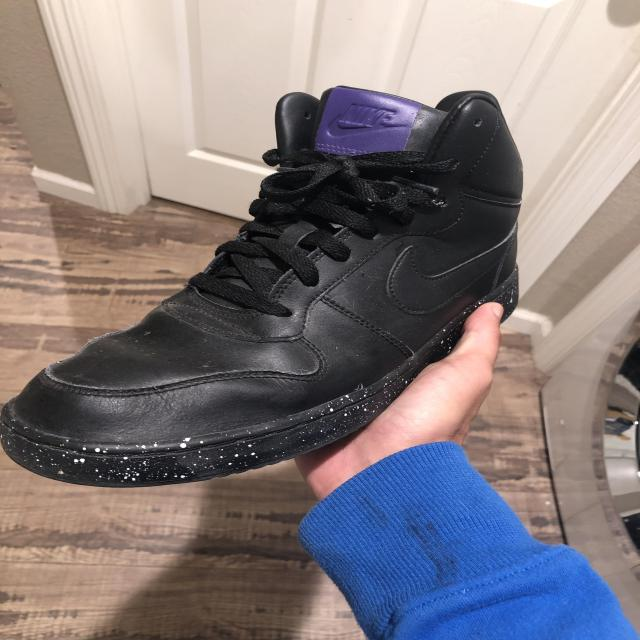shoe: (9, 61, 591, 490)
